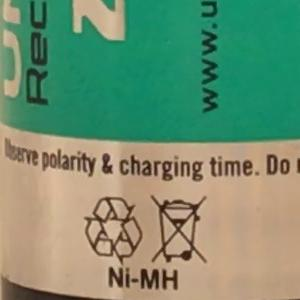keyword: (99, 259, 188, 298)
